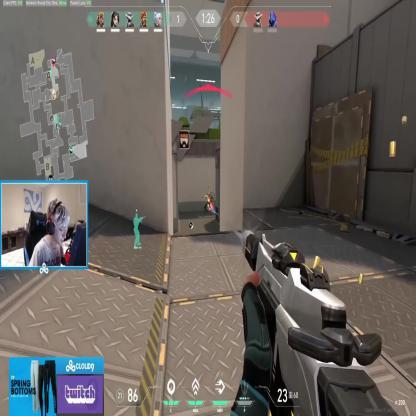enemy: (206, 192, 212, 210), (204, 194, 208, 214)
enemy_head: (204, 194, 208, 198), (208, 192, 210, 196)
